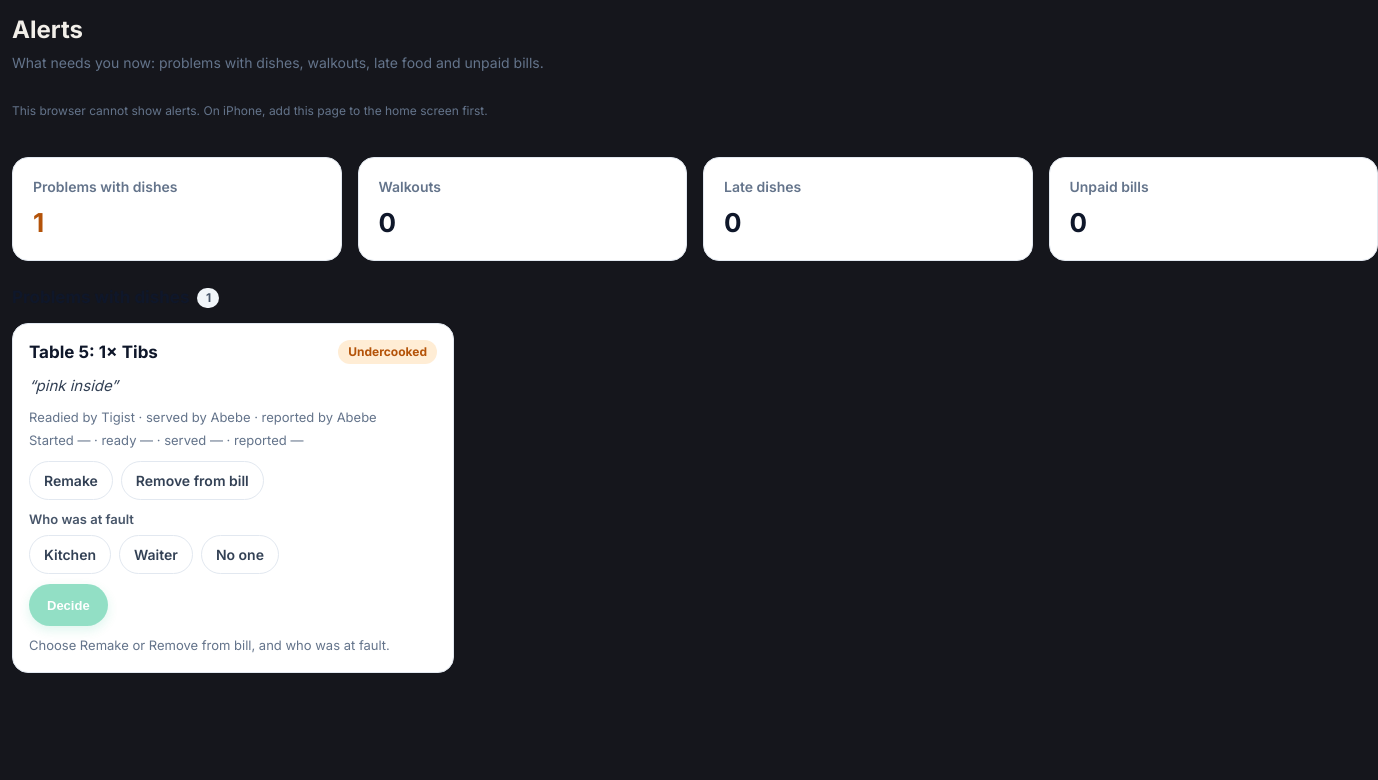
Test: DecisionsScreen › shows problems with everyone involved and decides remove from bill with the fault
Check: the form with test id "problem-p1" shows "Table 5: 1× Tibs", box [12,322,454,672]
Check: the form with test id "problem-p1" shows "Undercooked", box [348,344,427,359]
Click the radio button labelled "Remove from bill": (192, 480) [121,460,264,500]
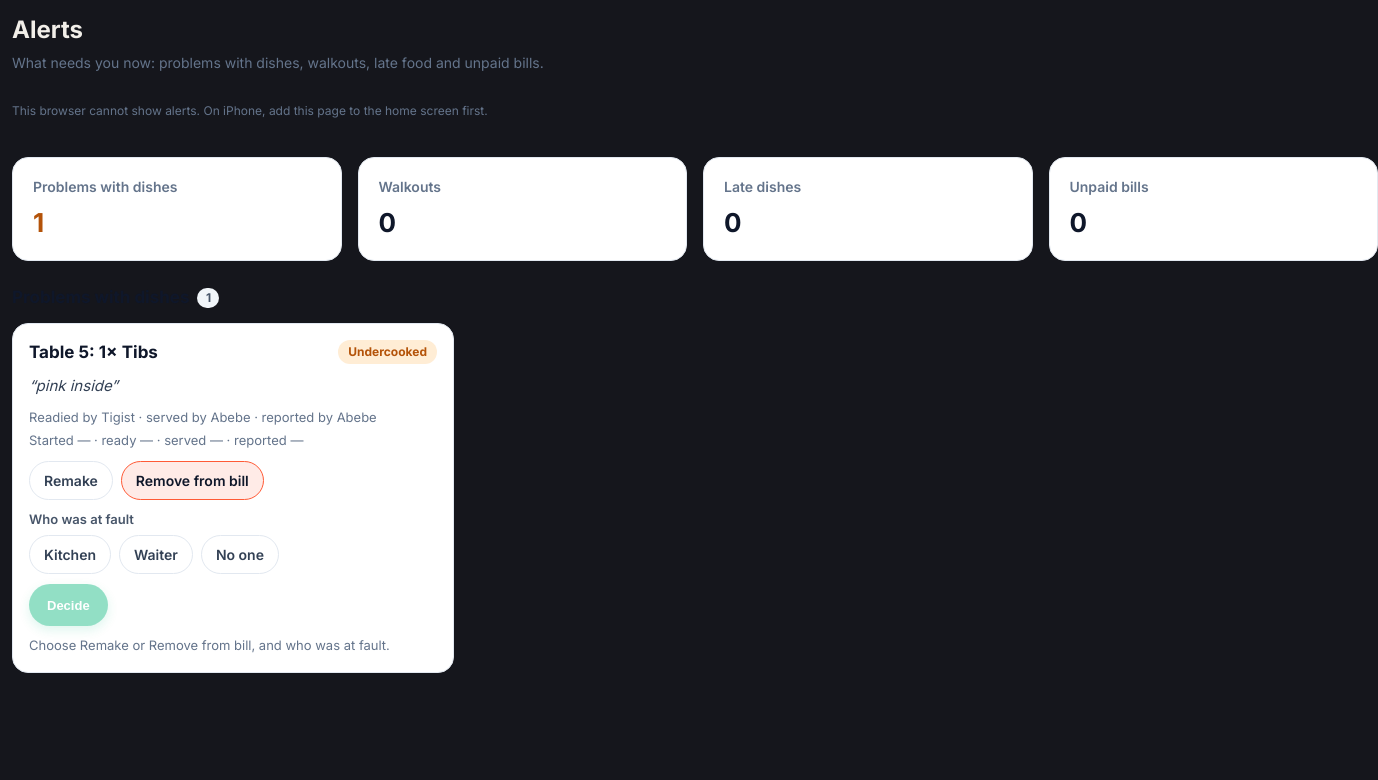
Click the radio button labelled "Kitchen": (70, 554) [29,535,111,574]
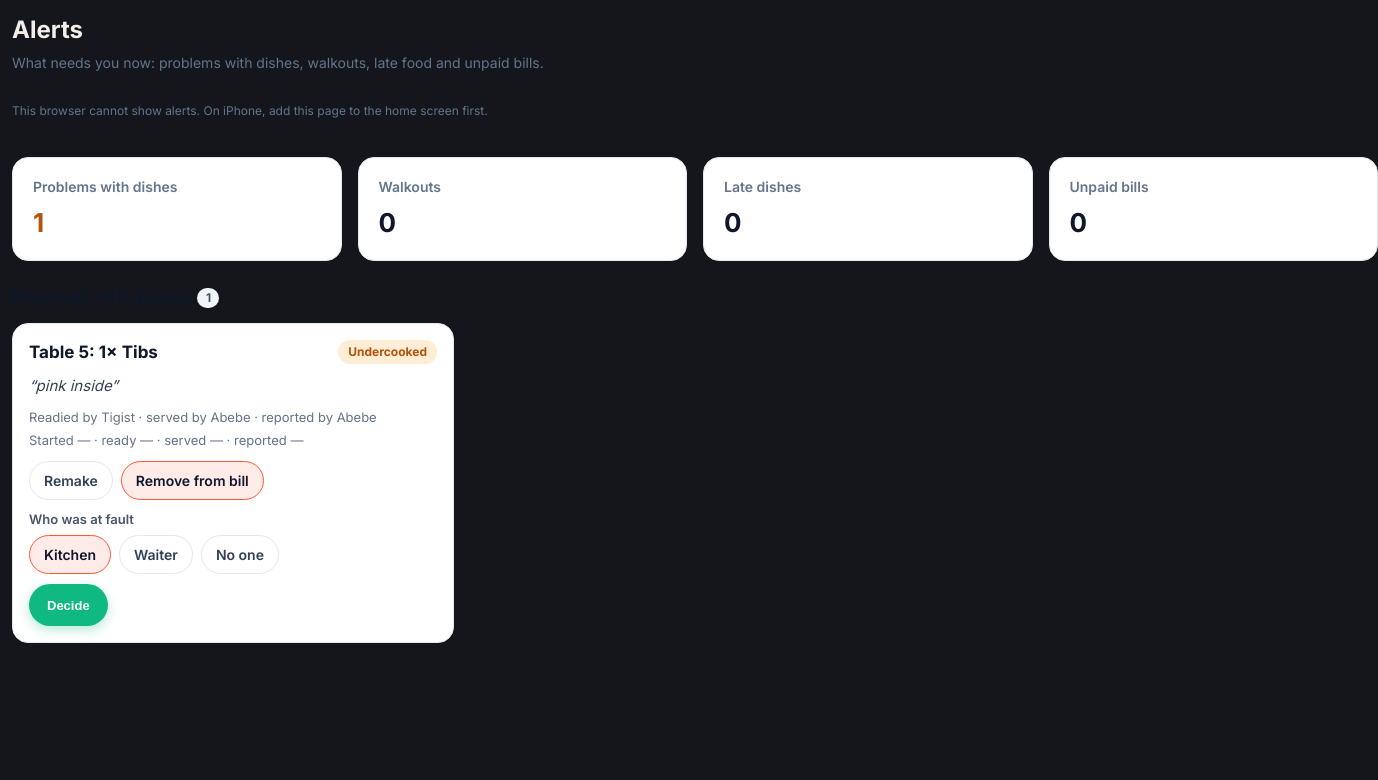
Submit the form with test id "problem-p1", box [12,322,454,643]
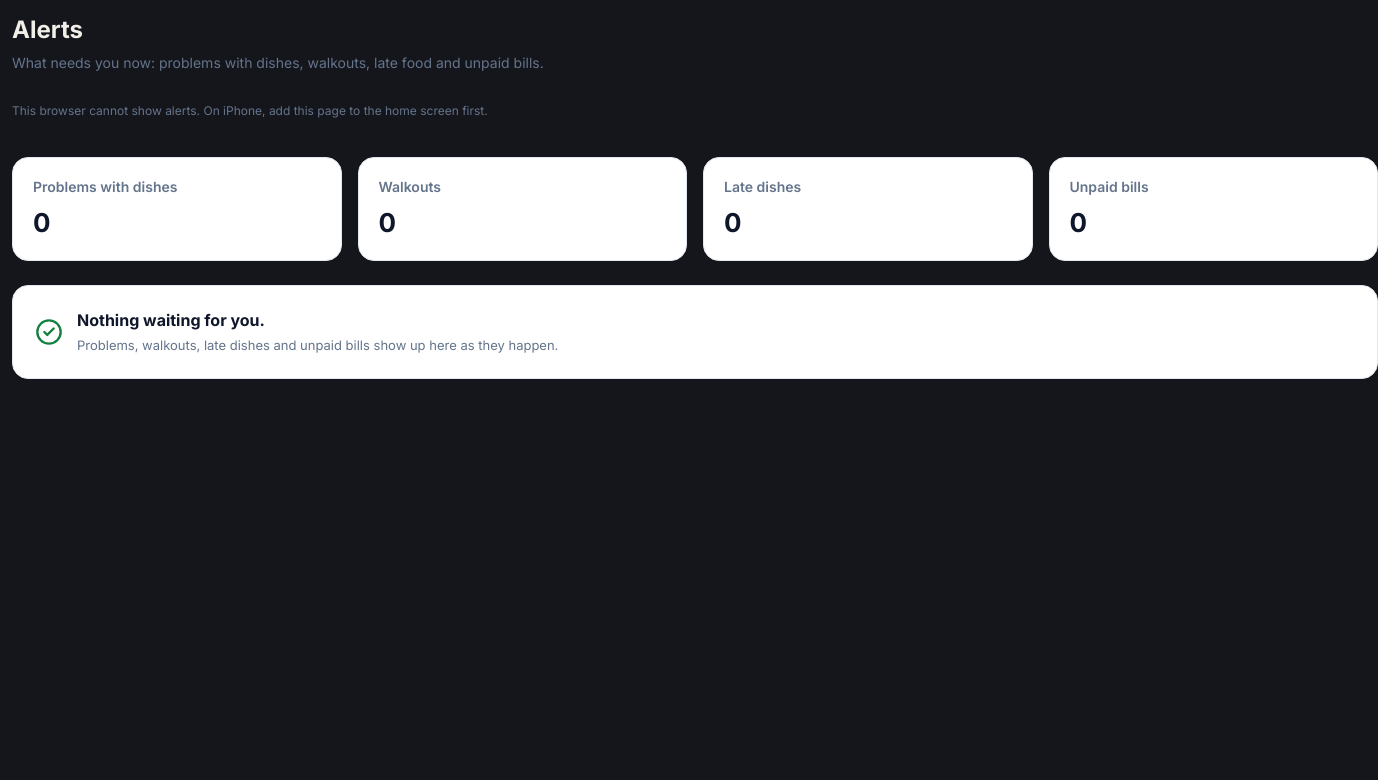
Check: the text "Nothing waiting for you." is shown, box [77,310,265,330]
